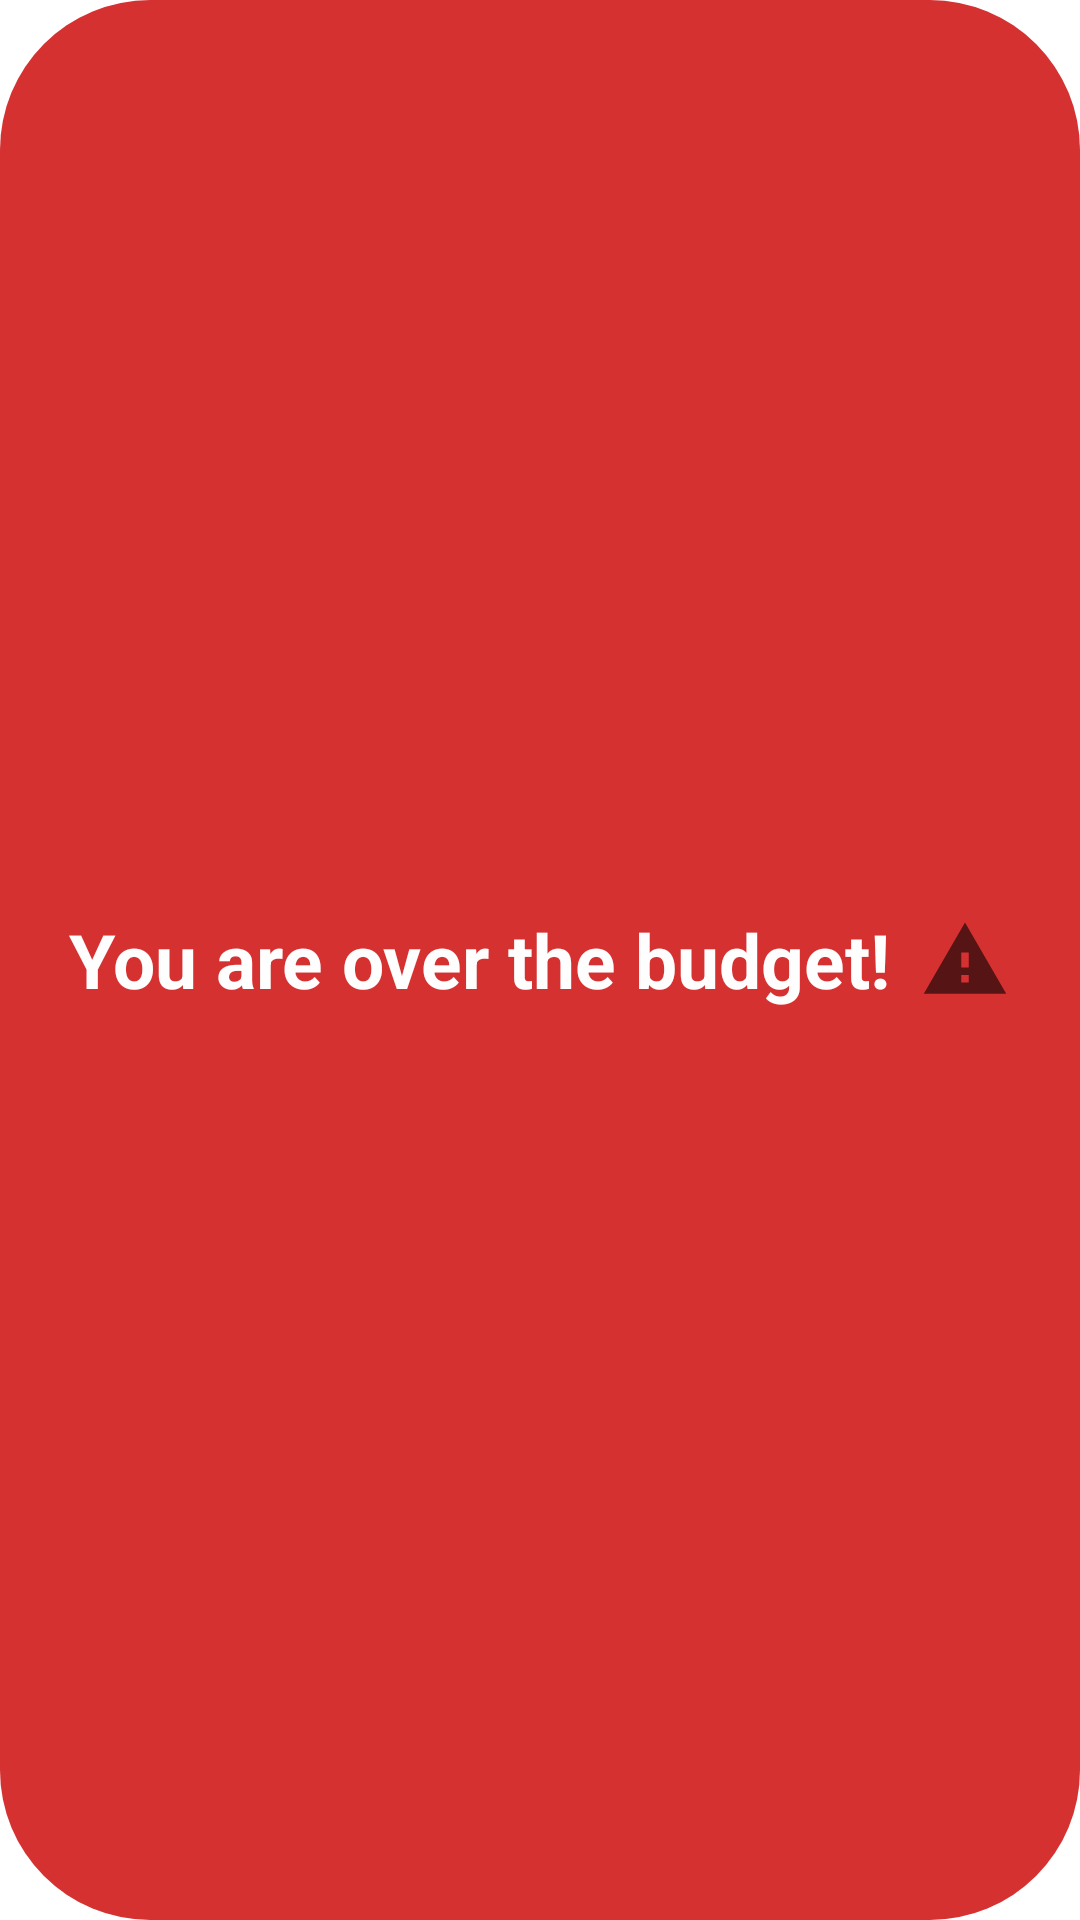

Icon bounding boxes for this 1080×1920 phone screenshot, format (x1, y1, x2, y2):
warning: (924, 923, 1006, 994)
